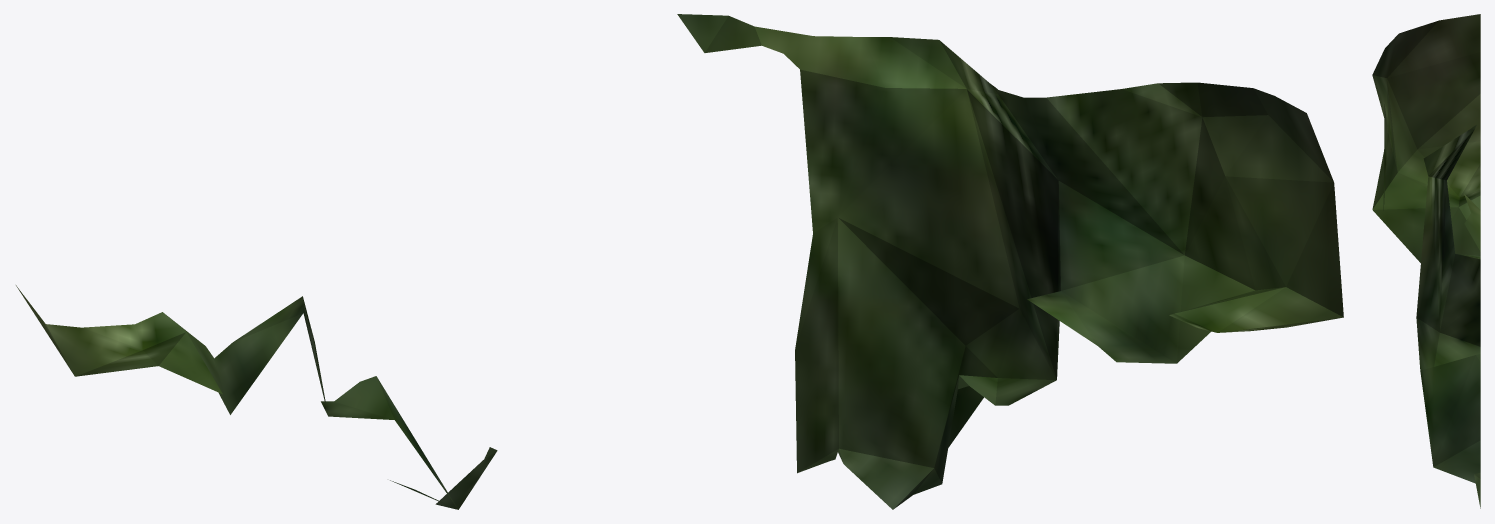
3 renders of one model, left to right at view 1: azimuth 30°, elevation 25°; view 2: azimuth 150°, elevation 25°; view 3: azimuth 270°, elevation 25°, orthographic. The views are drawn at different scales.
Bounding box in the file's own units: 6.3 × 4.16 × 1.26.
1 material, 1 textured.
